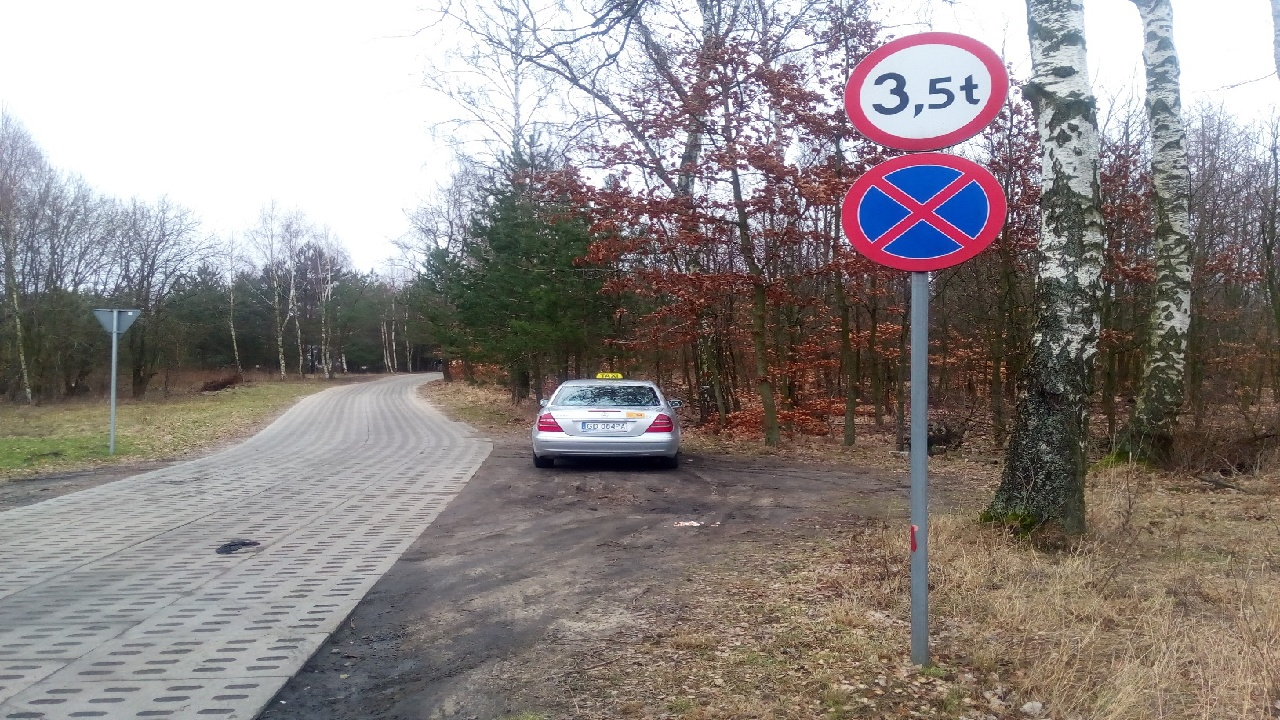B36: (837, 153, 1008, 271)
